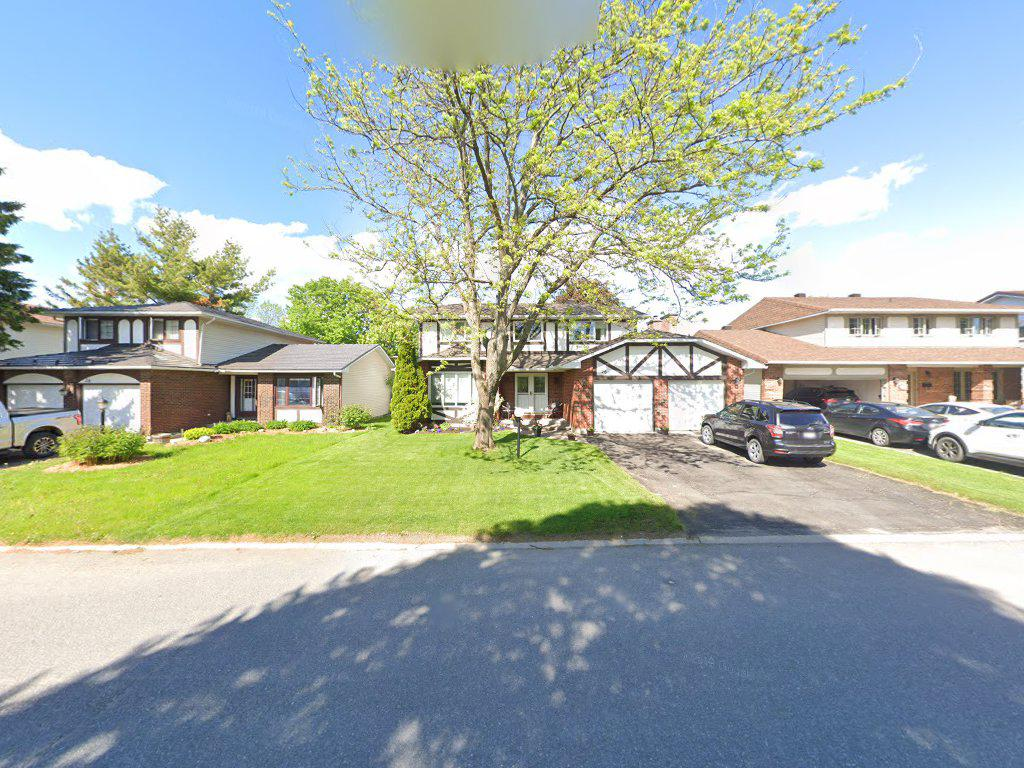trunk: (468, 313, 510, 462)
